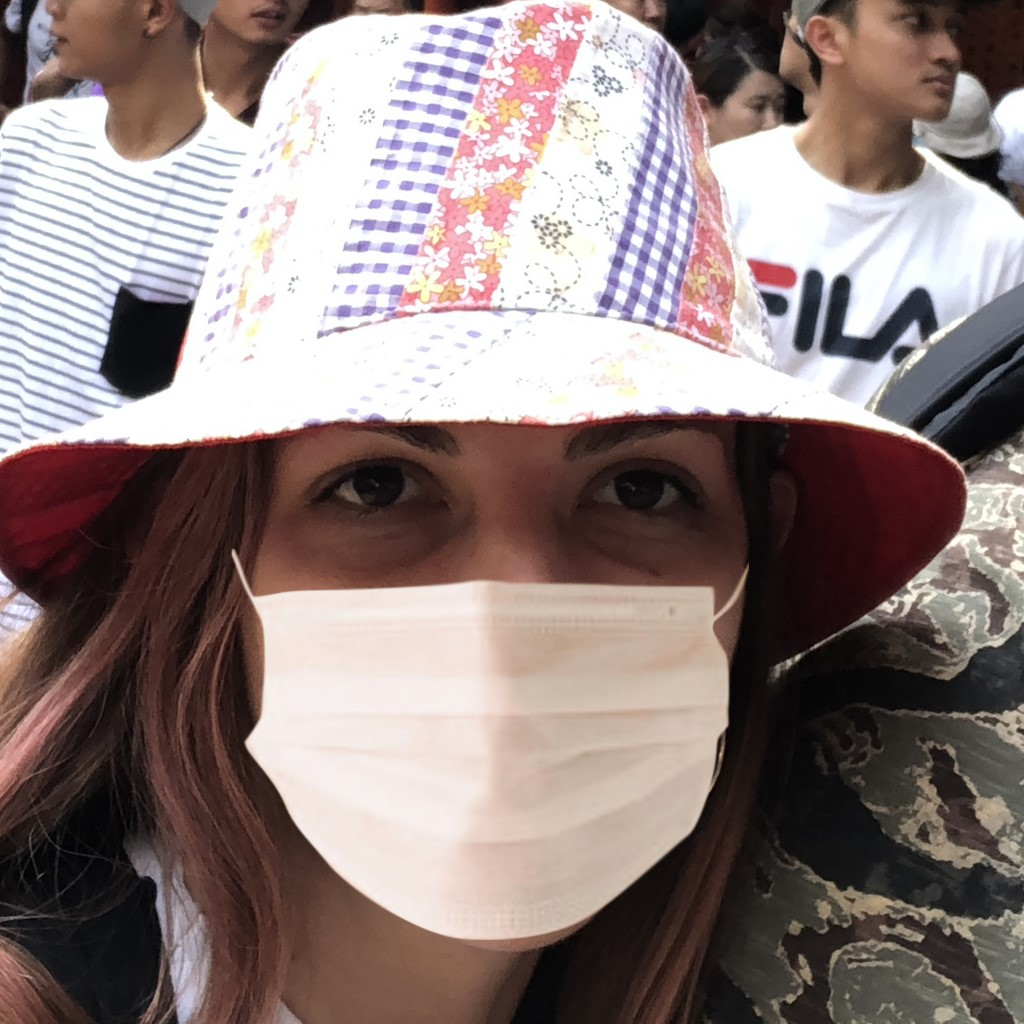con_mascara: (207, 282, 784, 975)
